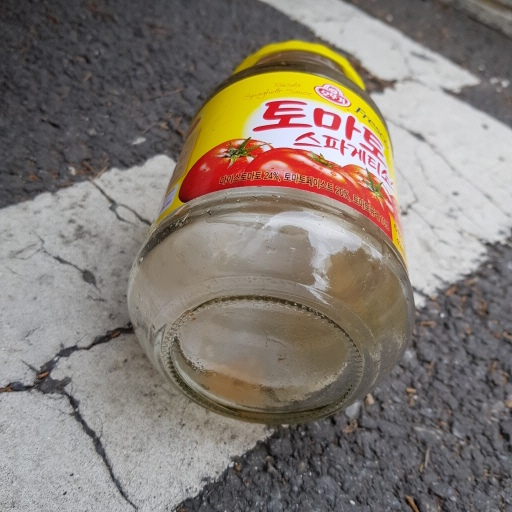Glass_5: (125, 42, 416, 424)
